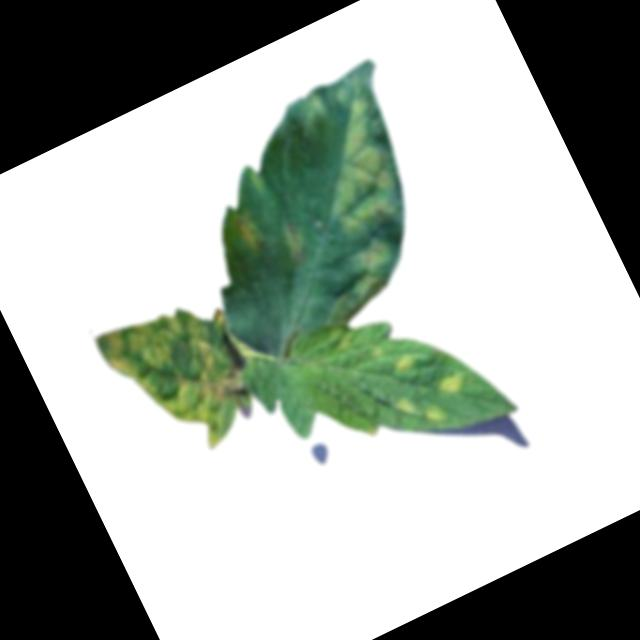Leaf_Mold: (273, 92, 443, 309), (90, 284, 274, 478), (391, 381, 449, 439), (230, 208, 267, 257), (435, 367, 466, 399), (386, 349, 416, 378)
